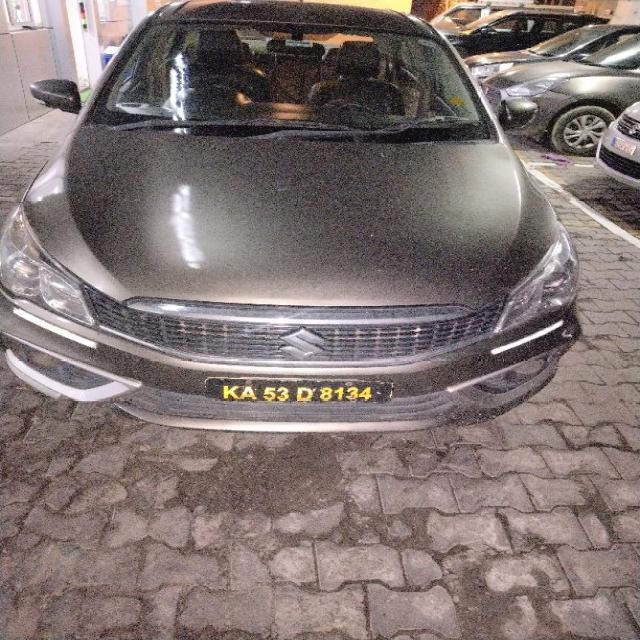license_plate: (203, 377, 394, 403)
